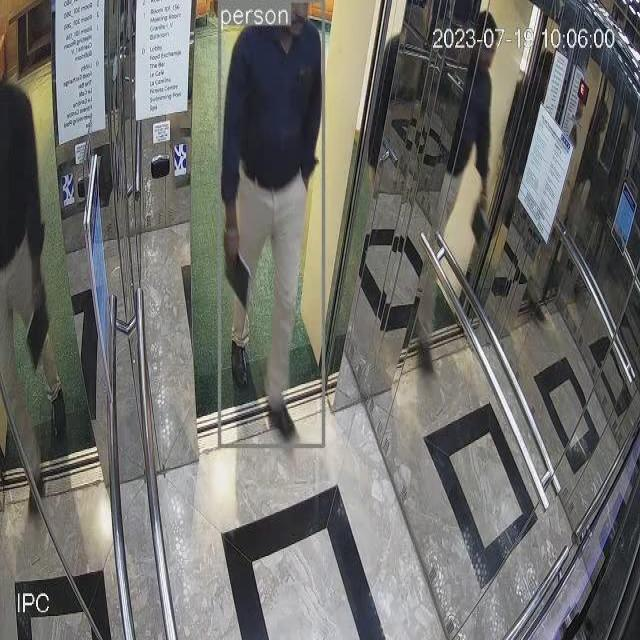person: (221, 1, 325, 447)
